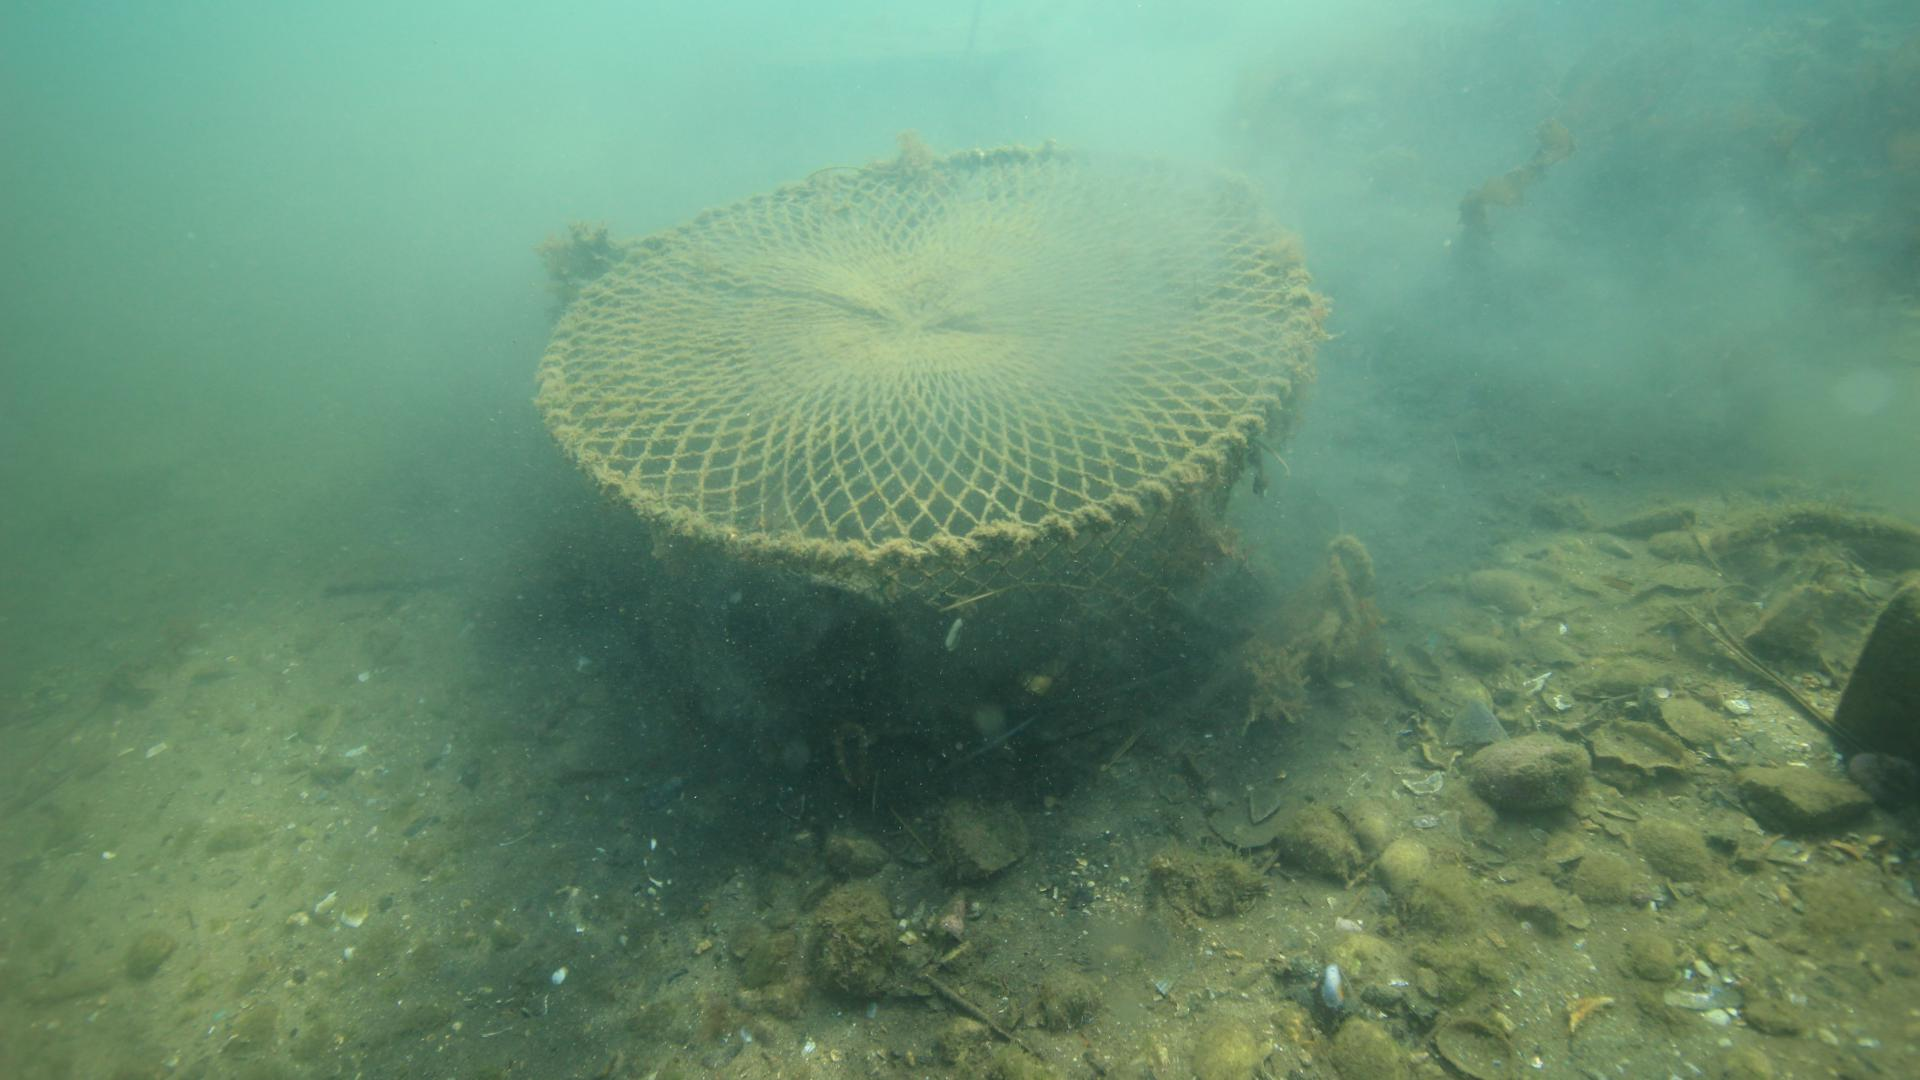circular fish trap: (525, 138, 1317, 754)
